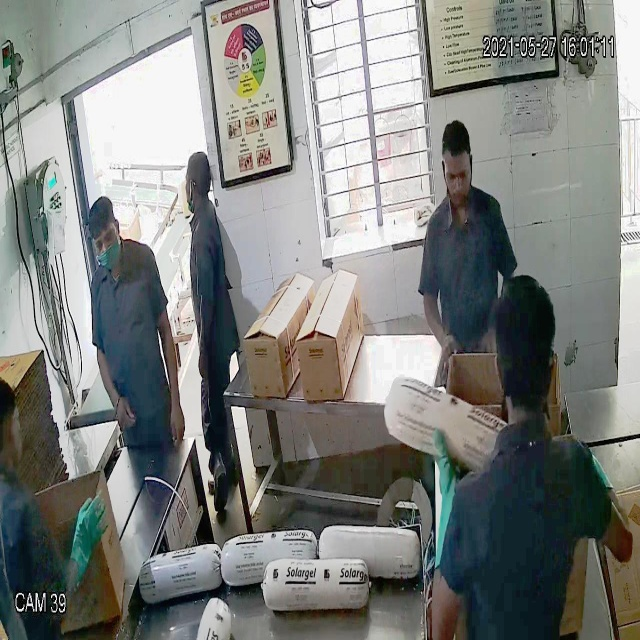Sin_gafas: (438, 157, 478, 188), (87, 227, 122, 253)
